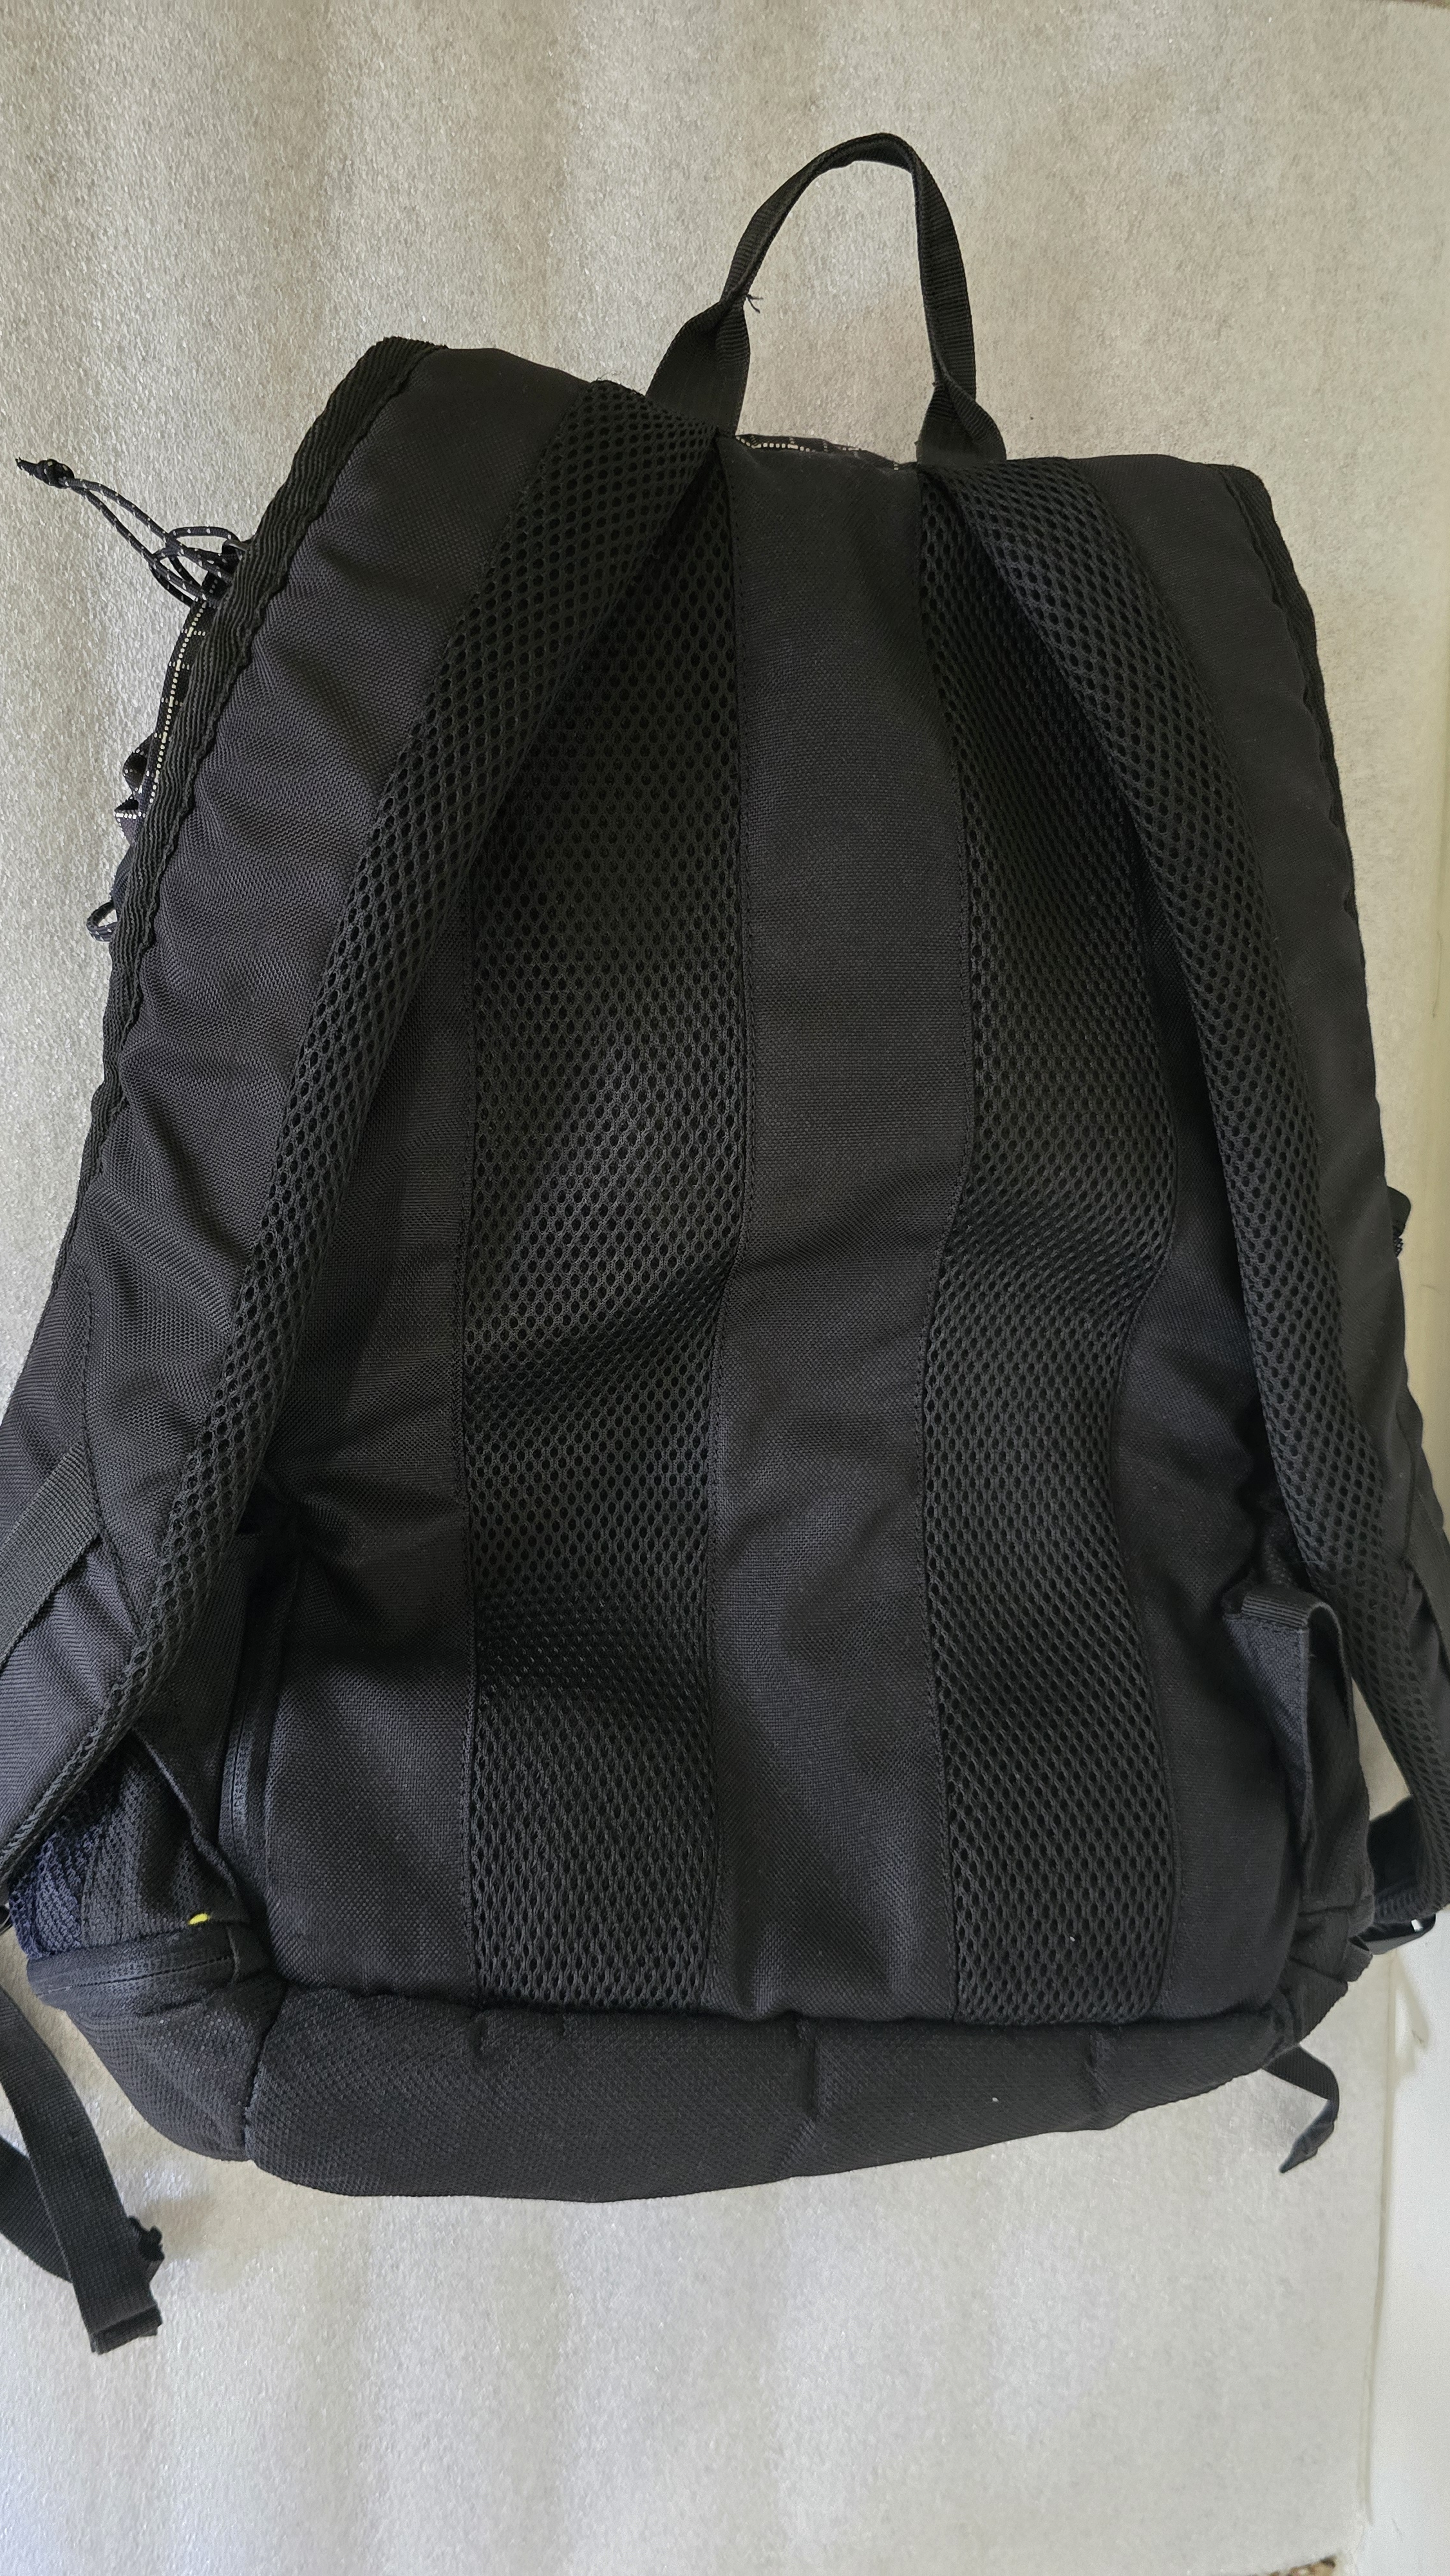bag: (74, 303, 1450, 2249)
